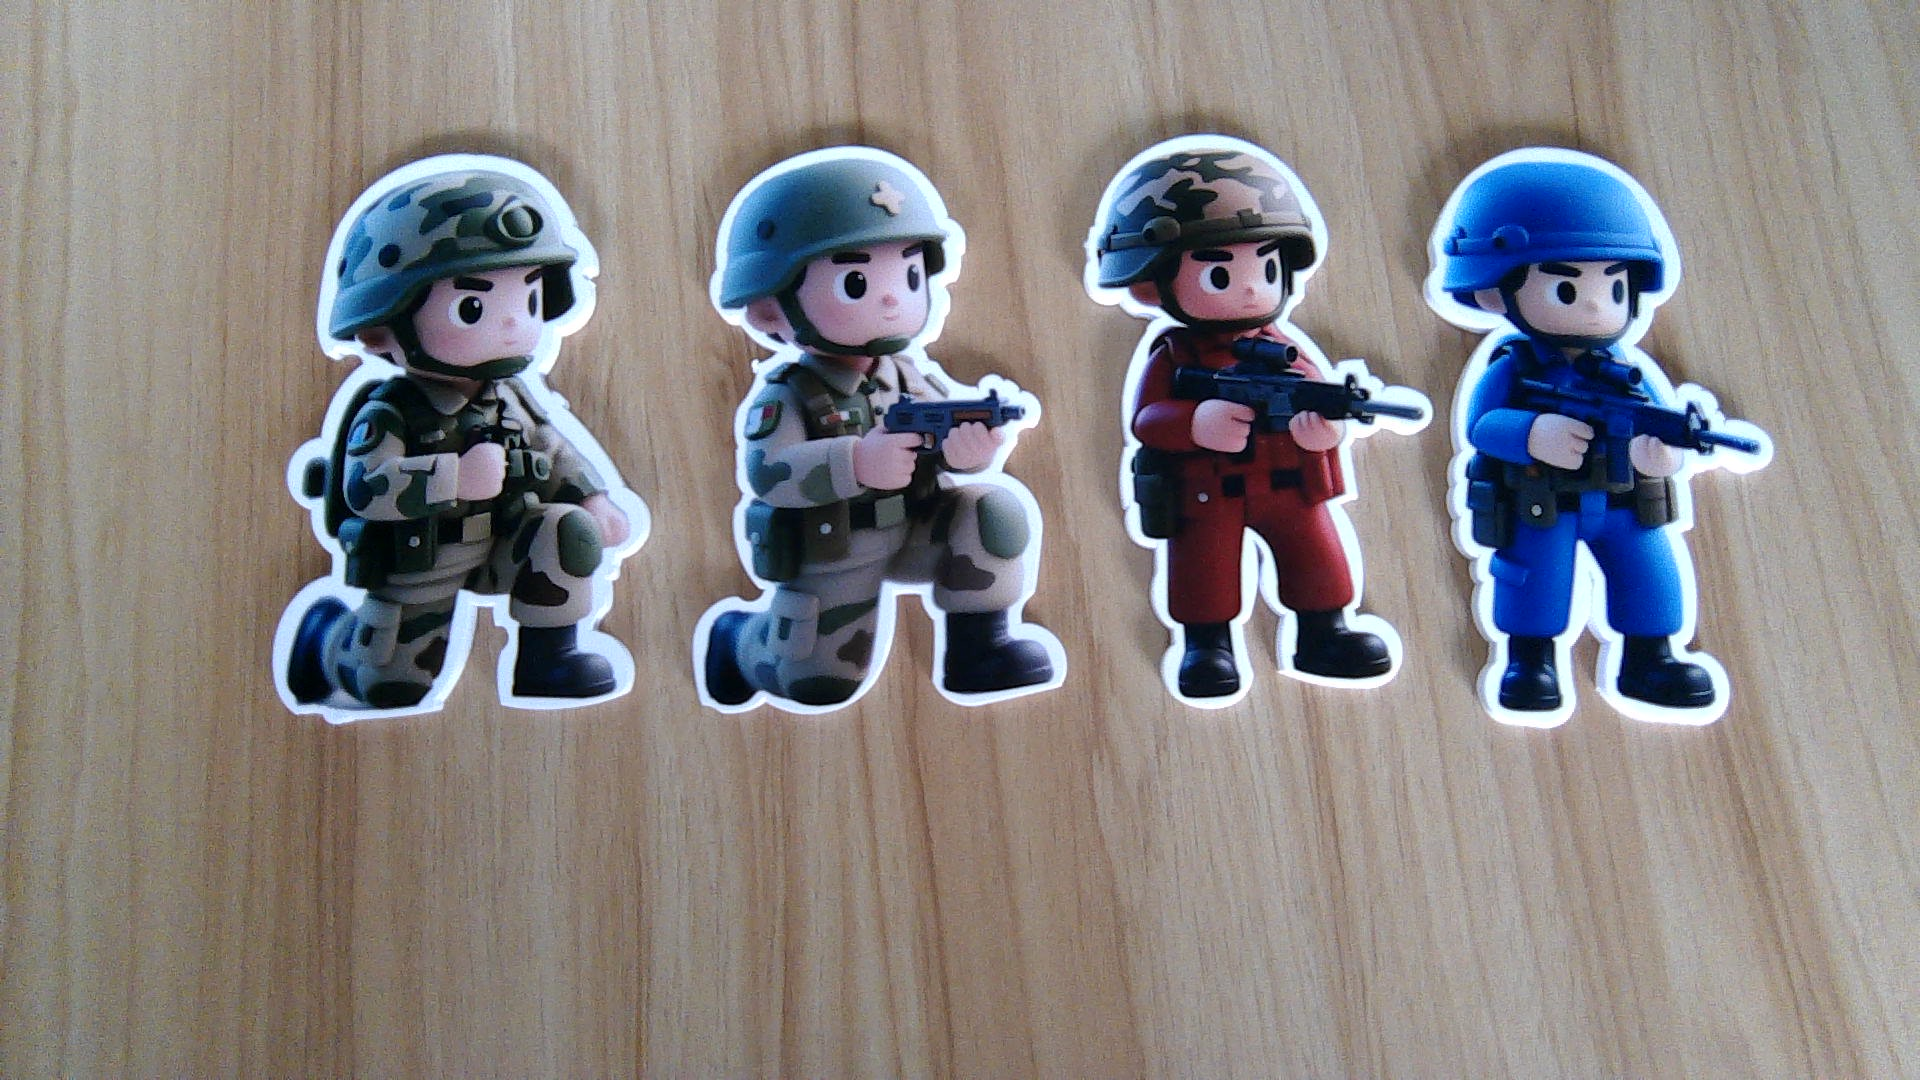友军: (686, 353, 1079, 717), (251, 381, 647, 727)
敌人1: (1109, 324, 1415, 705)
敌人2: (1443, 342, 1782, 732)
